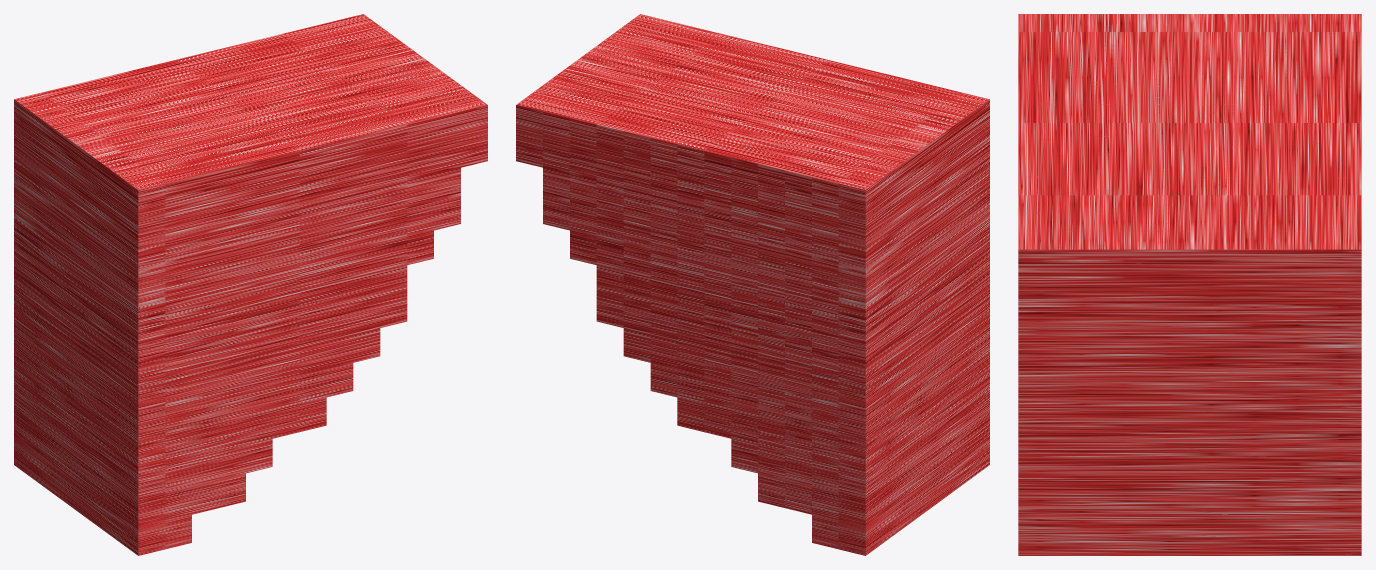
Rendered from tier3_piece_22.obj.
3 views of the same model, side by side, from view 1: azimuth 30°, elevation 25°; view 2: azimuth 150°, elevation 25°; view 3: azimuth 270°, elevation 25° (orthographic). The views are drawn at different scales.
Parts seen in each view (by area): view 1: tier3_piece_22; view 2: tier3_piece_22; view 3: tier3_piece_22.
Boxes of the visible parts, box(x1,y1,x2,y2) form: tier3_piece_22: box(14, 14, 487, 555); tier3_piece_22: box(516, 14, 989, 555); tier3_piece_22: box(1018, 14, 1361, 555).
Size of the model in its own units: 0.8125 by 0.8125 by 0.5.
